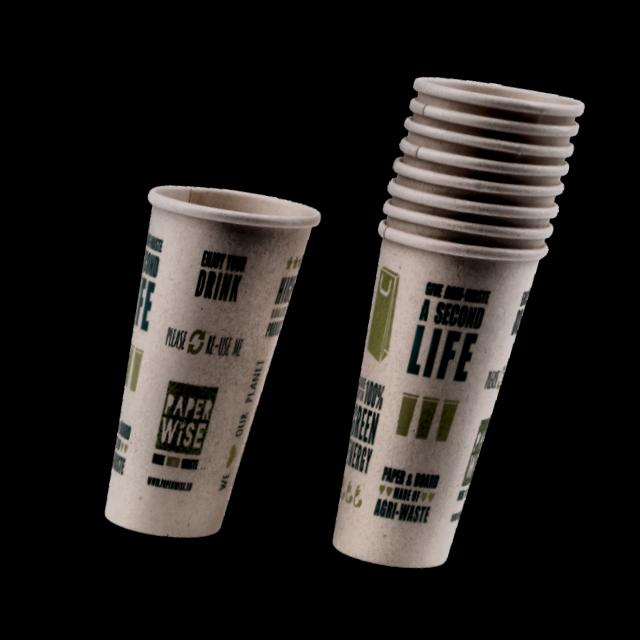Cup: (273, 50, 602, 617), (54, 148, 327, 570)
